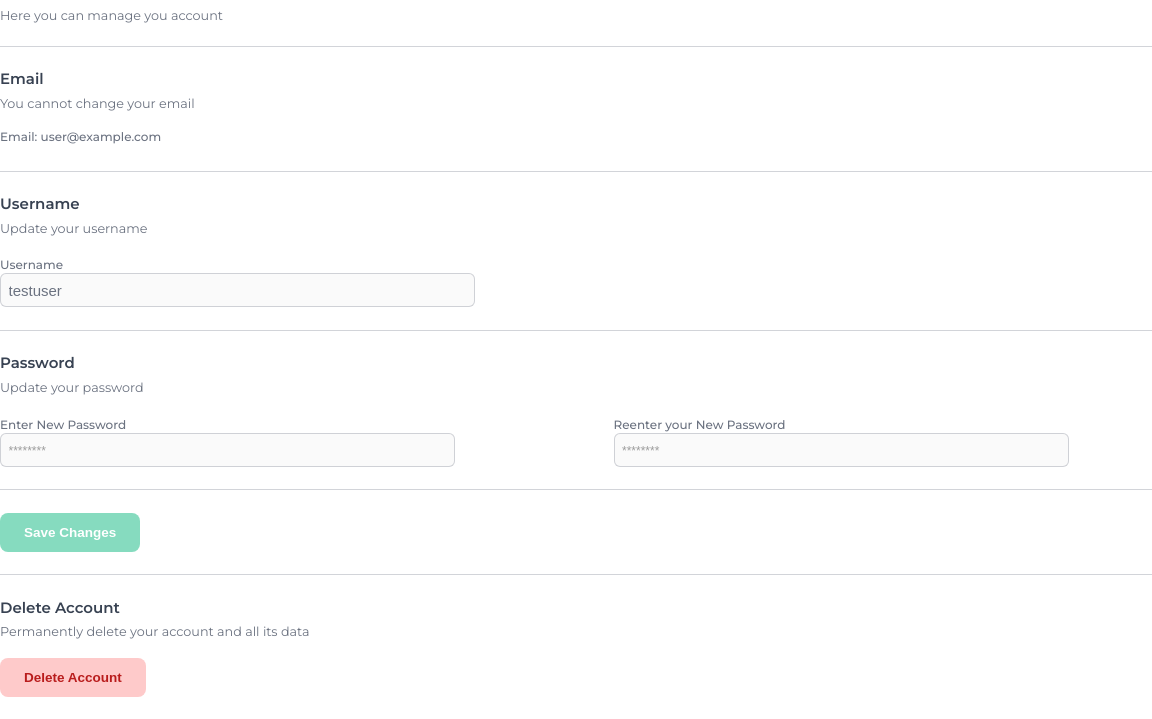
Test case: AccountSettings Component › Account Update And Deletion › should show warning before deleting account
(page scrolled)
Step 1. Click the button "Delete Account" → (73, 677), box x1=0 y1=658 x2=146 y2=697
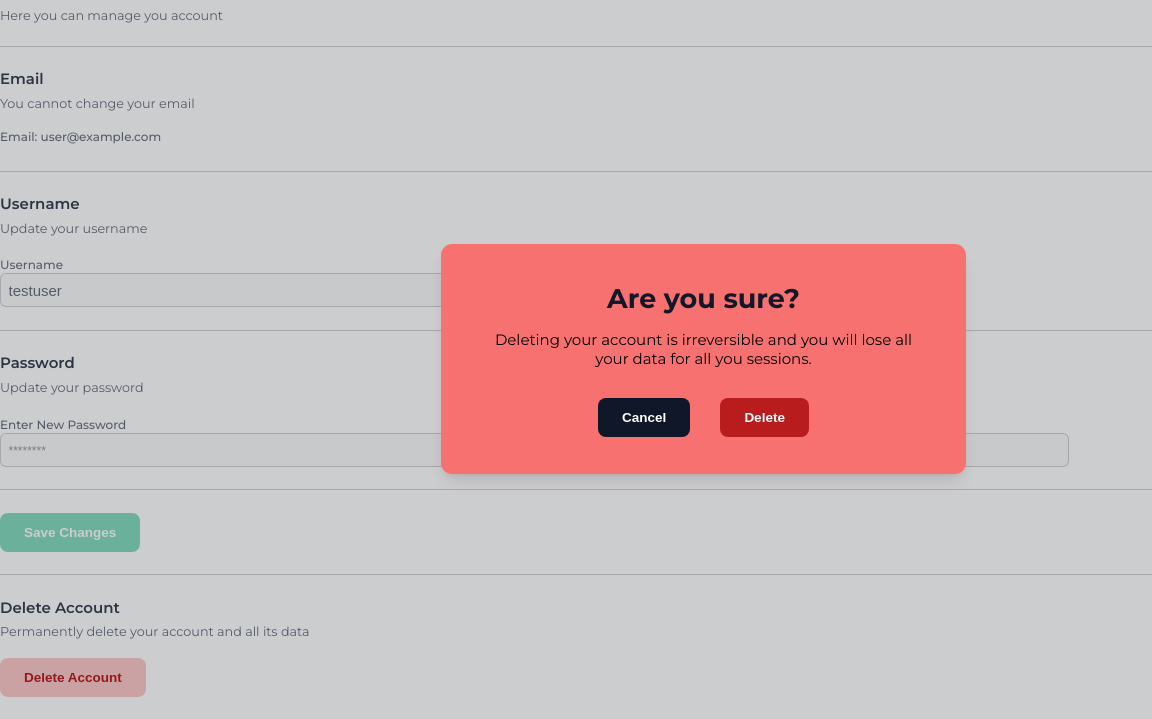
Expected: the heading "Are you sure?" is shown, x1=607 y1=282 x2=800 y2=314
Step 2. Click the button "Cancel" → (644, 417), box x1=598 y1=398 x2=690 y2=436
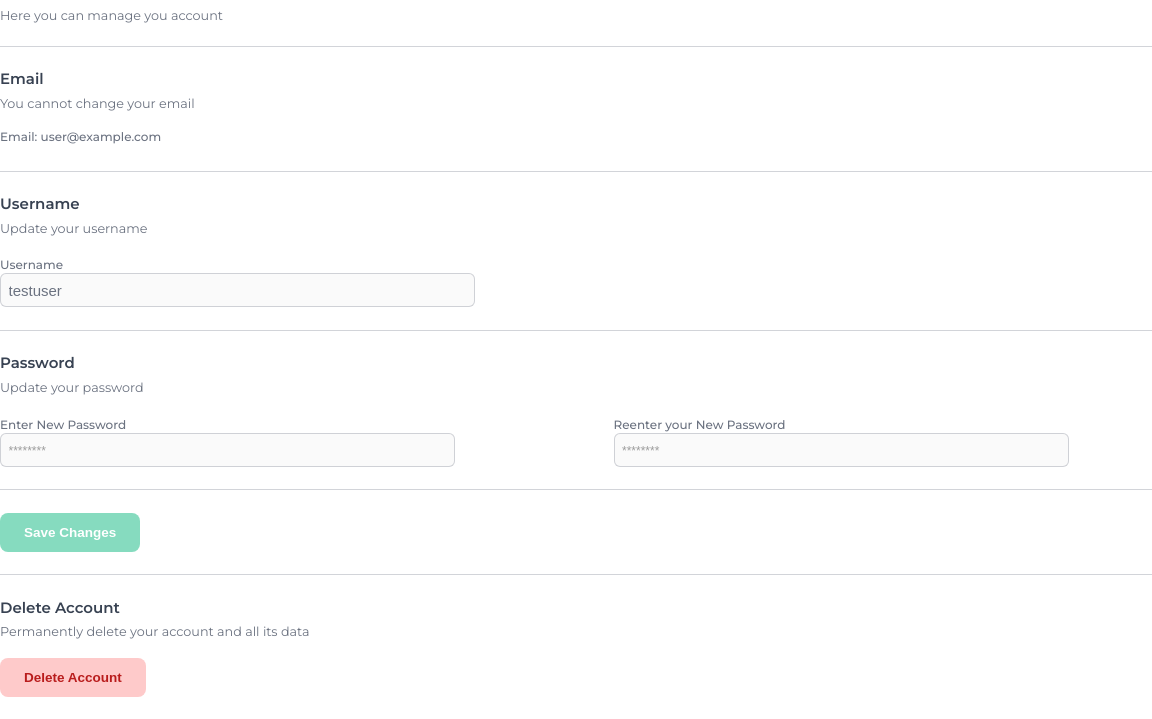
Expected: the heading "Are you sure" is gone
